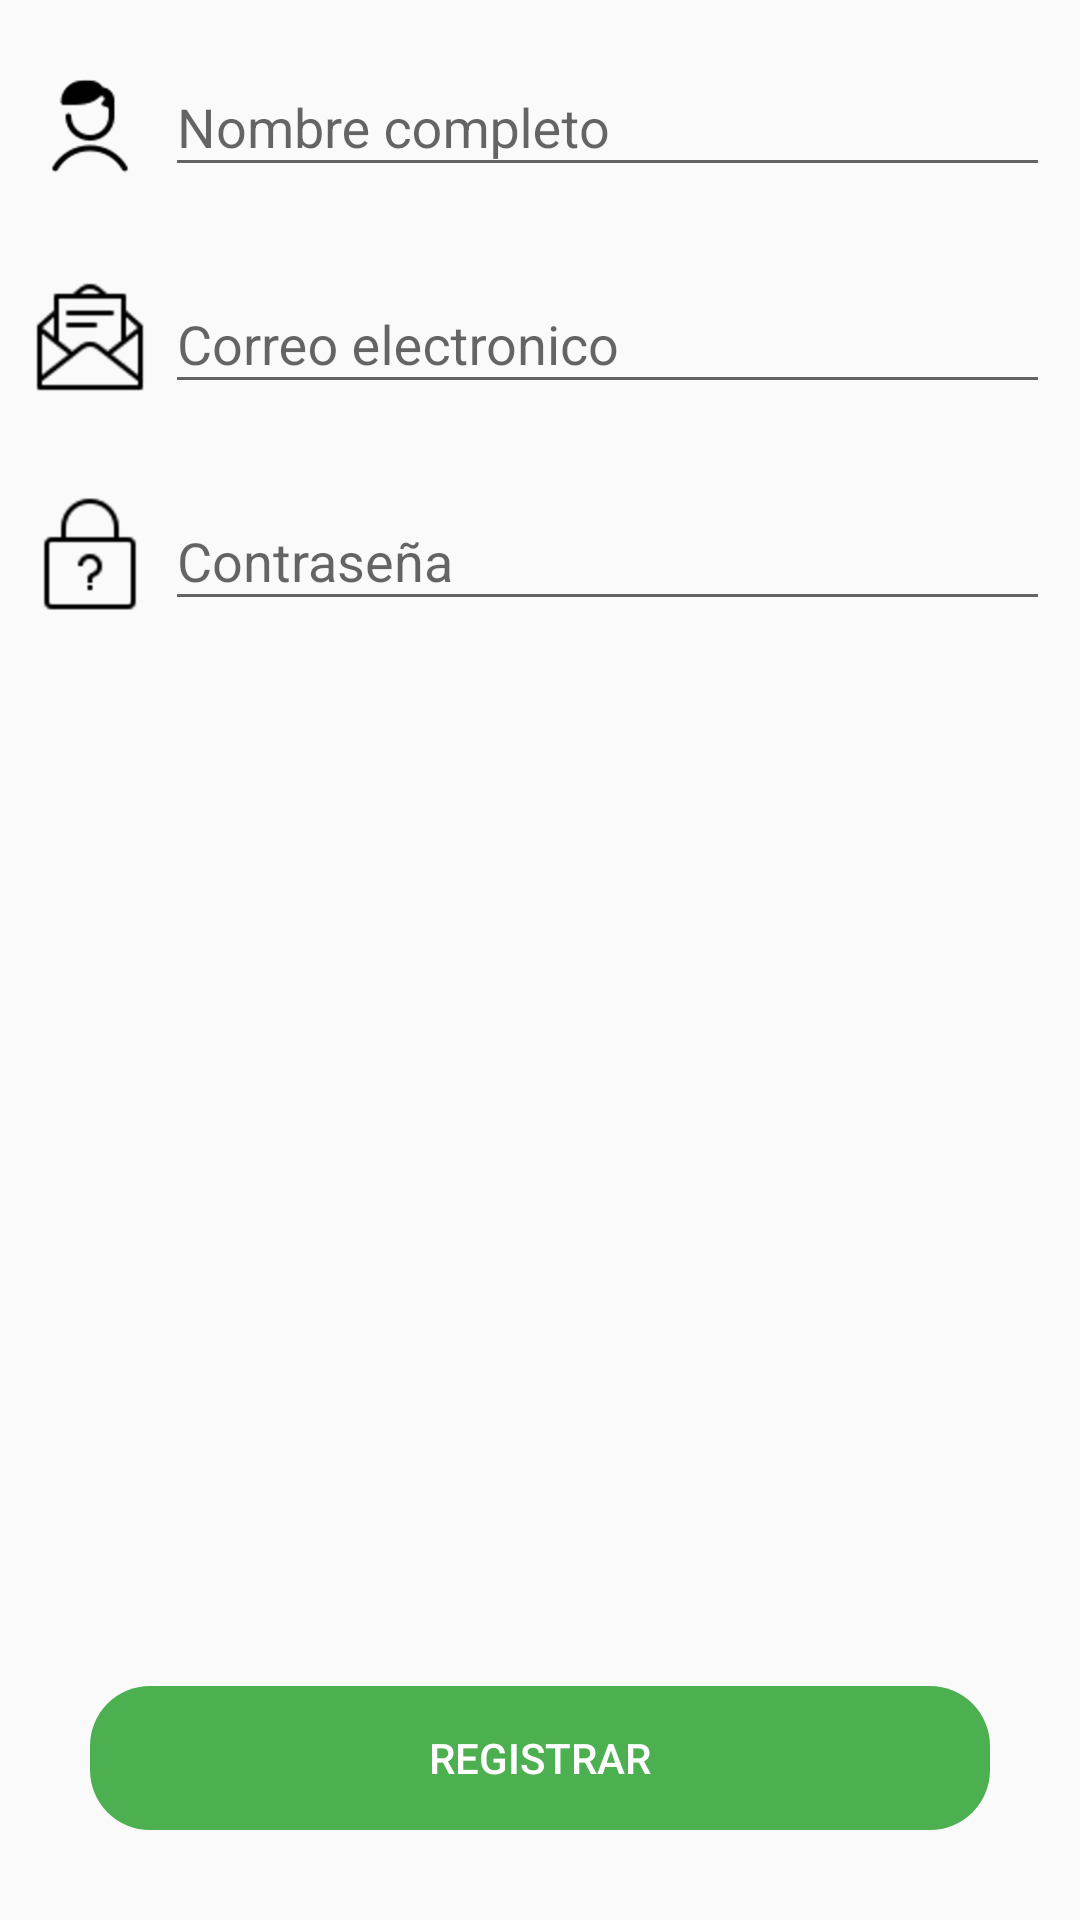

Where icons sit on this 1080×1920 app screen, as box(x1, y1, x2, y2):
email: box(36, 283, 144, 391)
password: box(43, 498, 137, 610)
user: box(52, 80, 128, 172)
